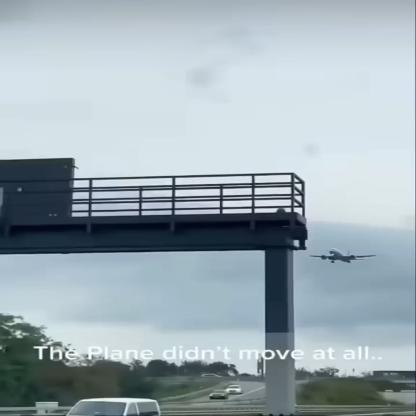plane: (308, 245, 382, 271)
